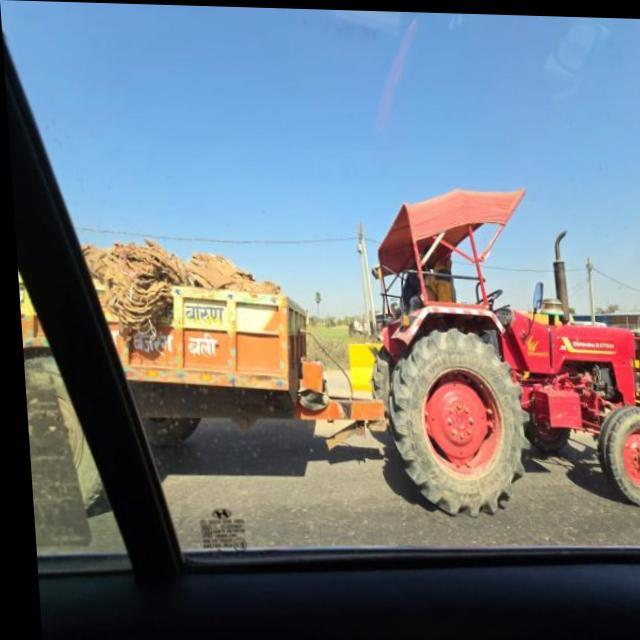uncovered: (11, 204, 327, 363)
